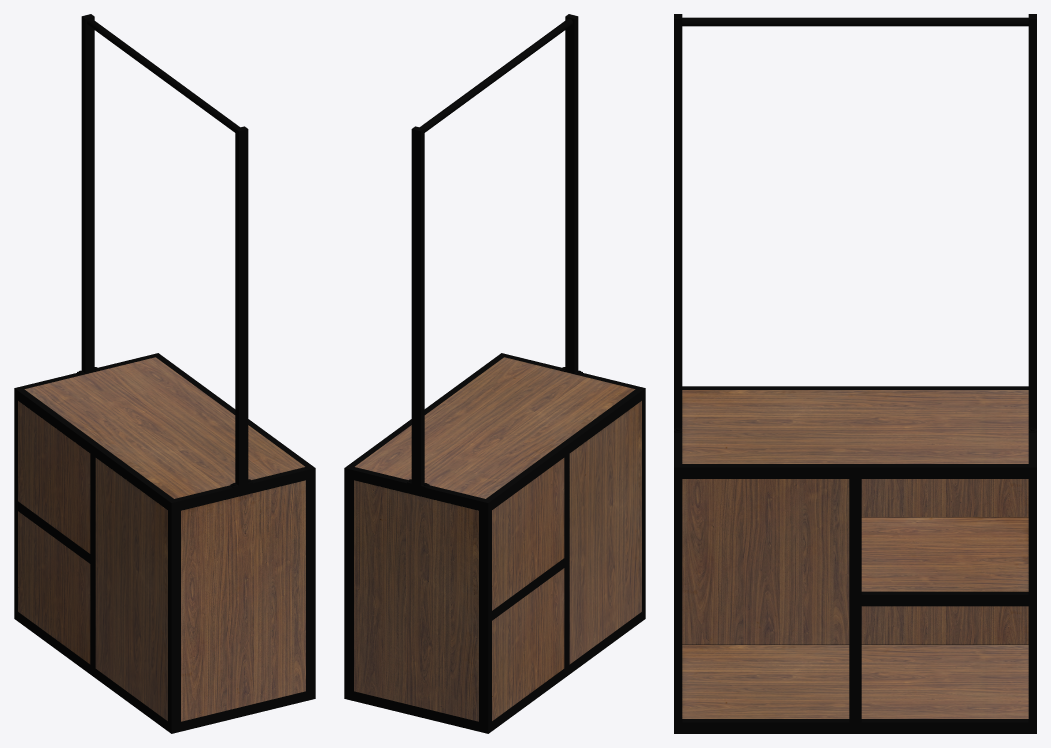
The model's file is luggagebench.glb.
3 views of the same model, side by side, from view 1: azimuth 30°, elevation 25°; view 2: azimuth 150°, elevation 25°; view 3: azimuth 270°, elevation 25° (orthographic). The views are drawn at different scales.
Parts seen in each view (by area): view 1: wood, metal; view 2: wood, metal; view 3: wood, metal.
Boxes of the visible parts, x1,y1,x2,y2 form: wood: (18, 357, 305, 721); metal: (14, 14, 315, 733); wood: (354, 357, 641, 721); metal: (344, 14, 645, 733); wood: (682, 390, 1028, 718); metal: (674, 14, 1036, 733).
Size of the model in its own units: 0.5001 by 1.95 by 0.9455.
Materials: 2 (1 with a texture image).
